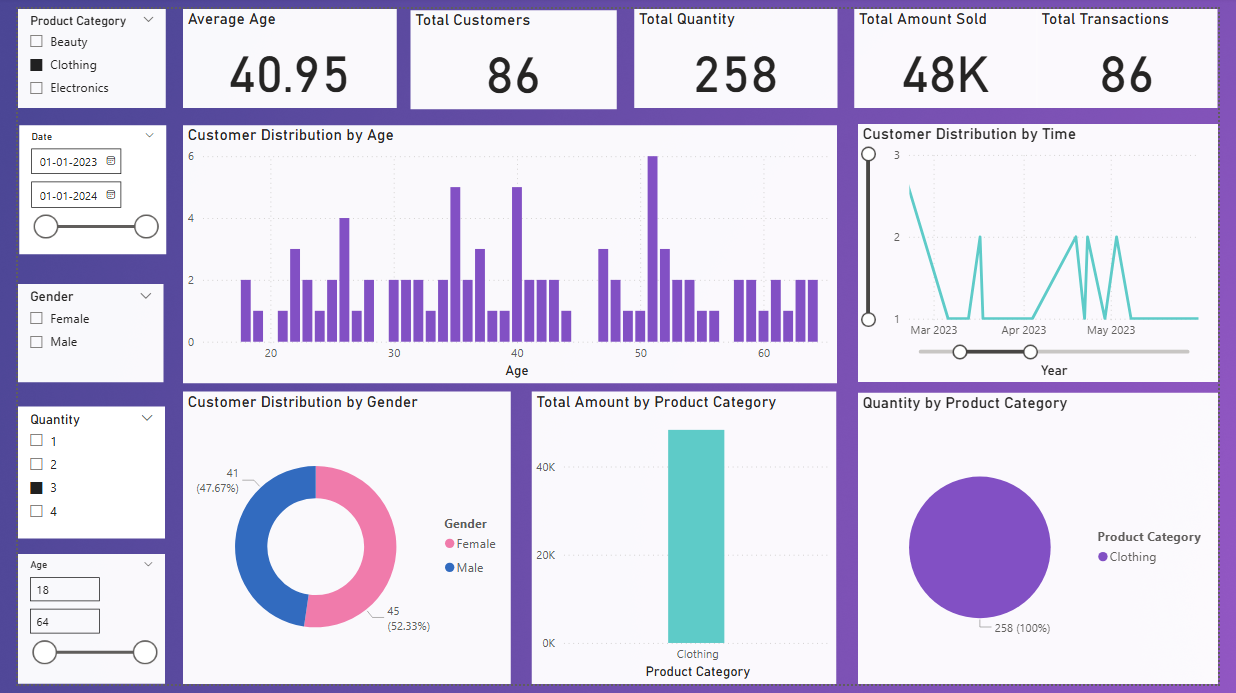

What the dashboard file says about the page in this screenshot:
{"tool":"powerbi","page":{"name":"Page 1","canvas":[1280,720],"ordinal":0},"visuals":[{"type":"slicer","fields":{"Values":["Feuil1.Age"]},"box":[0,580.9,156.7,138.1],"z":0},{"type":"slicer","fields":{"Values":["Feuil1.Date"]},"box":[1.2,124.4,156.7,136.8],"z":1000},{"type":"slicer","fields":{"Values":["Feuil1.Gender"]},"box":[0,293.6,155.5,104.5],"z":2000},{"type":"slicer","fields":{"Values":["Feuil1.Product Category"]},"box":[0,0,158,105.7],"z":3000},{"type":"slicer","fields":{"Values":["Feuil1.Quantity"]},"box":[0,424.2,156.7,140.6],"z":4000},{"type":"card","title":"Average Age","fields":{"Values":["Avg(Feuil1.Age)"]},"box":[175.4,0,227.6,105.7],"z":5000},{"type":"card","title":"Total Customers","fields":{"Values":["CountNonNull(Feuil1.Customer ID)"]},"box":[419.2,1.2,220.2,105.7],"z":6000},{"type":"card","title":"Total Quantity","fields":{"Values":["Sum(Feuil1.Quantity)"]},"box":[656.8,0,216.4,105.7],"z":7000},{"type":"card","title":"Total Transactions","fields":{"Values":["CountNonNull(Feuil1.Transaction ID)"]},"box":[1087.2,0,192.8,105.7],"z":8000},{"type":"card","title":"Total Amount Sold","fields":{"Values":["Sum(Feuil1.Total Amount)"]},"box":[891.9,0,195.3,105.7],"z":9000},{"type":"clusteredColumnChart","title":"Customer Distribution by Age","fields":{"Category":["Feuil1.Age"],"Y":["CountNonNull(Feuil1.Customer ID)"]},"box":[175.4,124.4,697.9,274.9],"z":10000},{"type":"lineChart","title":"Customer Distribution by Time","fields":{"Y":["CountNonNull(Feuil1.Customer ID)"],"Category":["Feuil1.Date.Variation.Date Hierarchy.Year","Feuil1.Date.Variation.Date Hierarchy.Quarter","Feuil1.Date.Variation.Date Hierarchy.Month","Feuil1.Date.Variation.Date Hierarchy.Day"]},"box":[895.7,123.2,384.4,274.9],"z":11000},{"type":"donutChart","title":"Customer Distribution by Gender","fields":{"Category":["Feuil1.Gender"],"Y":["CountNonNull(Feuil1.Customer ID)"]},"box":[175.4,408,349.6,312.2],"z":12000},{"type":"columnChart","title":"Total Amount by Product Category","fields":{"Y":["Sum(Feuil1.Total Amount)"],"Category":["Feuil1.Product Category"]},"box":[548.6,408,324.7,312.2],"z":13000},{"type":"pieChart","title":"Quantity by Product Category","fields":{"Y":["Sum(Feuil1.Quantity)"],"Category":["Feuil1.Product Category"]},"box":[895.7,409.3,384.4,311],"z":14000}]}

Visuals, with their boxes in screenshot pixels (x1, y1, x2, y2), scaled from the page's 1280x720 canvas onto the 1236x693 screenshot:
slicer - Feuil1.Age: [left=0, top=559, right=151, bottom=692]
slicer - Feuil1.Date: [left=1, top=120, right=152, bottom=251]
slicer - Feuil1.Gender: [left=0, top=283, right=150, bottom=383]
slicer - Feuil1.Product Category: [left=0, top=0, right=153, bottom=102]
slicer - Feuil1.Quantity: [left=0, top=408, right=151, bottom=544]
"Average Age" card: [left=169, top=0, right=389, bottom=102]
"Total Customers" card: [left=405, top=1, right=617, bottom=103]
"Total Quantity" card: [left=634, top=0, right=843, bottom=102]
"Total Transactions" card: [left=1050, top=0, right=1235, bottom=102]
"Total Amount Sold" card: [left=861, top=0, right=1050, bottom=102]
"Customer Distribution by Age" clusteredColumnChart: [left=169, top=120, right=843, bottom=384]
"Customer Distribution by Time" lineChart: [left=865, top=119, right=1235, bottom=383]
"Customer Distribution by Gender" donutChart: [left=169, top=393, right=507, bottom=692]
"Total Amount by Product Category" columnChart: [left=530, top=393, right=843, bottom=692]
"Quantity by Product Category" pieChart: [left=865, top=394, right=1235, bottom=692]
